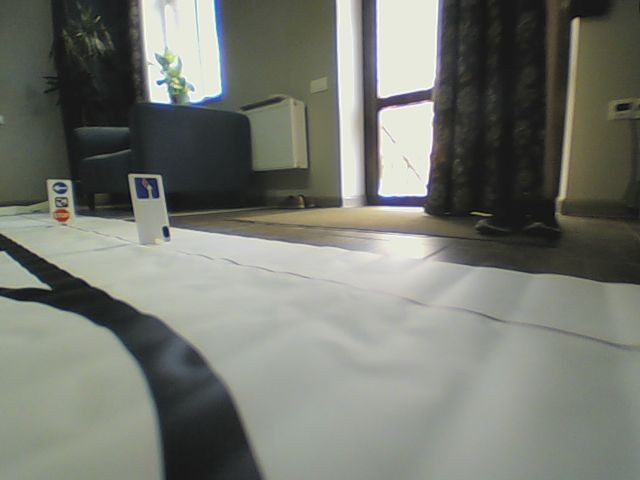priority_movement: (133, 176, 161, 200)
